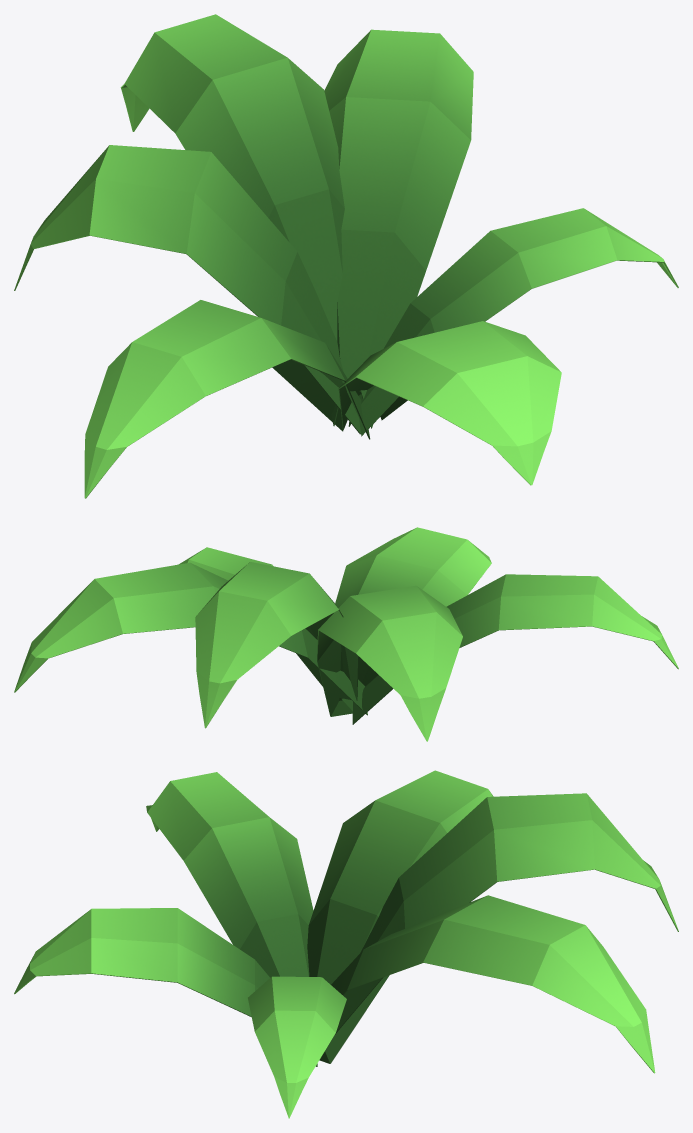
File: moitaPequena.fbx
The picture shows the model from 3 angles, top to bottom: view 1: azimuth 30°, elevation 25°; view 2: azimuth 150°, elevation 25°; view 3: azimuth 270°, elevation 25°; orthographic projection. The views are drawn at different scales.
Parts seen in each view (by area): view 1: moitaPequena; view 2: moitaPequena; view 3: moitaPequena.
Part boxes in pixels (x1,y1,x2,y2): moitaPequena: (14, 14, 678, 498); moitaPequena: (14, 527, 678, 741); moitaPequena: (14, 770, 678, 1118).
Size of the model in its own units: 85.19 by 35.73 by 85.88.
